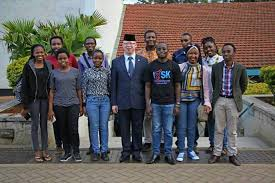person: (206, 44, 243, 165), (17, 41, 53, 164), (112, 33, 145, 162), (51, 49, 83, 163), (149, 43, 178, 163), (84, 51, 112, 161), (178, 43, 203, 163), (134, 25, 159, 55), (198, 33, 220, 66), (171, 26, 193, 53), (45, 34, 71, 52), (77, 36, 103, 53)
